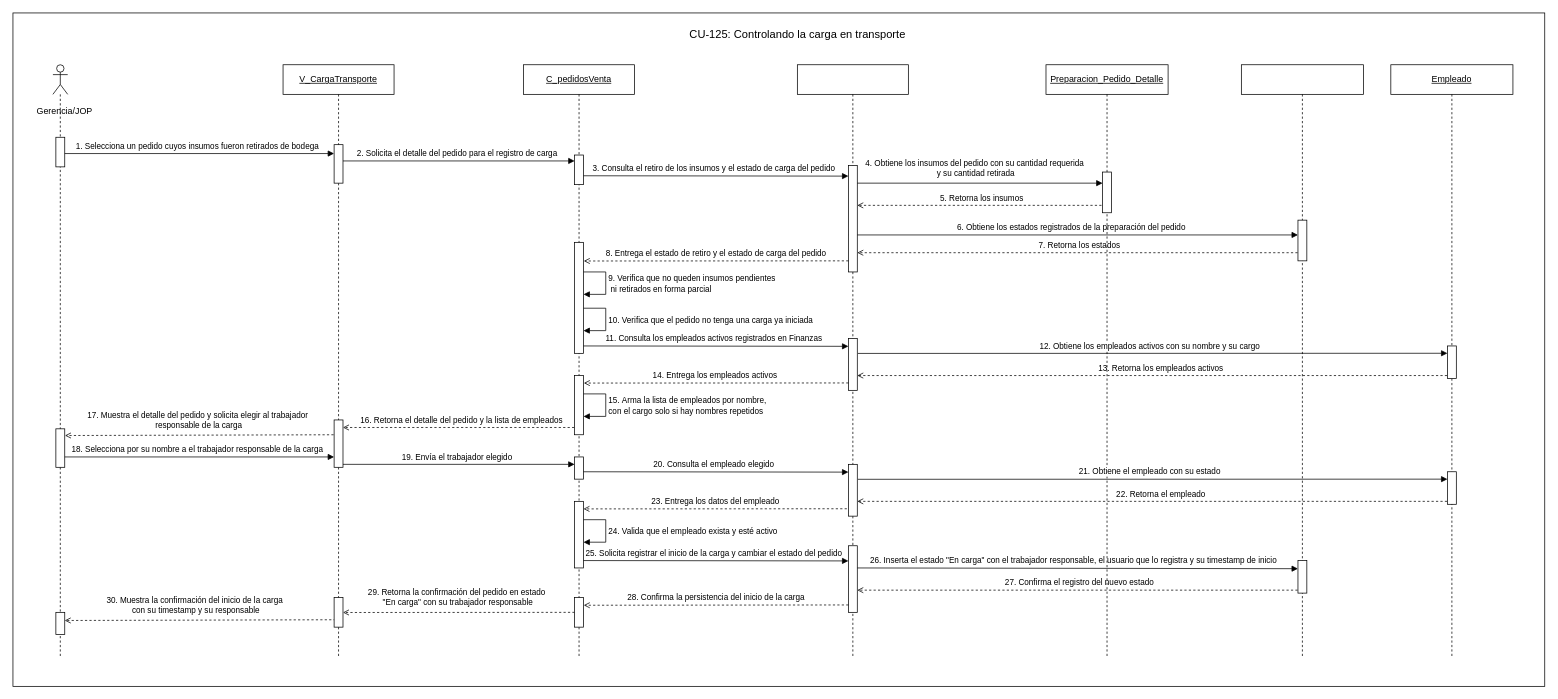
Some shapes in this 1558 by 699 pixel diagram are drawn without their labels. The box of each missing label's shape, as (x1, y1, x2, y2) in pixels:
C_Postgre: (797, 64, 908, 657)
Preparacion_Pedido_Estado: (1241, 64, 1363, 657)
